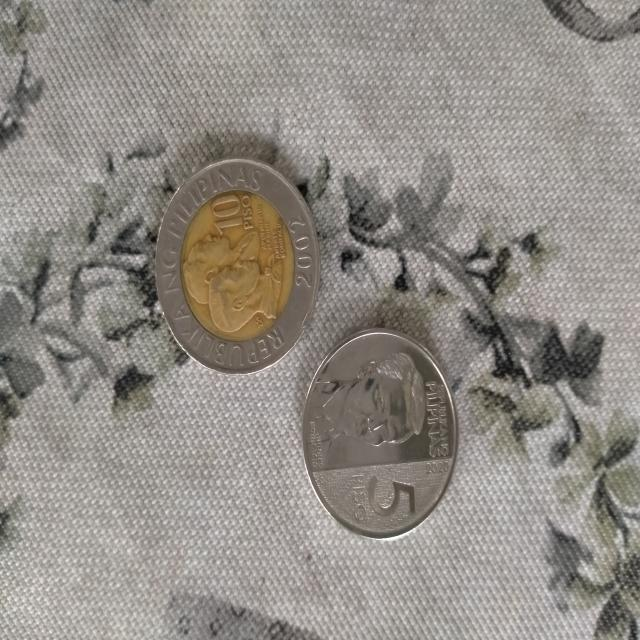10_Old_Front: (180, 194, 296, 340)
5_New_Front: (320, 350, 438, 515)
